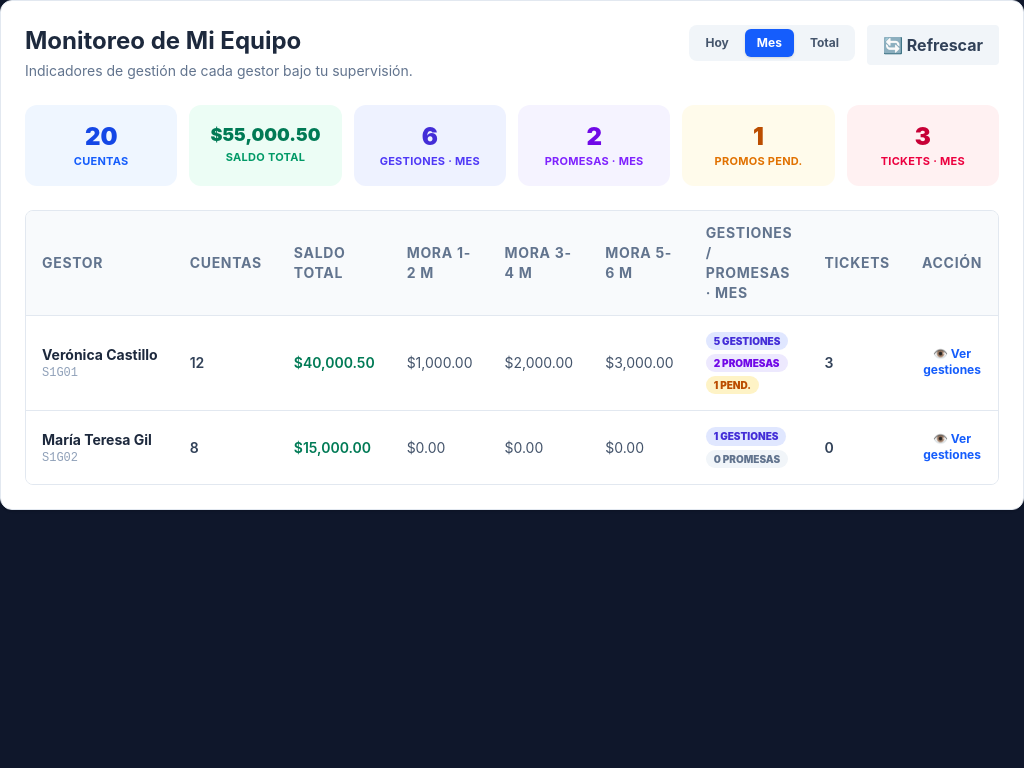
it: SupervisionPanel: detalhe de gestiones › avisa cuando el gestor aun no tiene gestiones
Expected: the text "Verónica Castillo" is shown, [42,345,158,365]
Step 1. Click the button "👁 Ver gestiones" in the row of "Verónica Castillo" → point(952, 362), box [922,346,982,378]
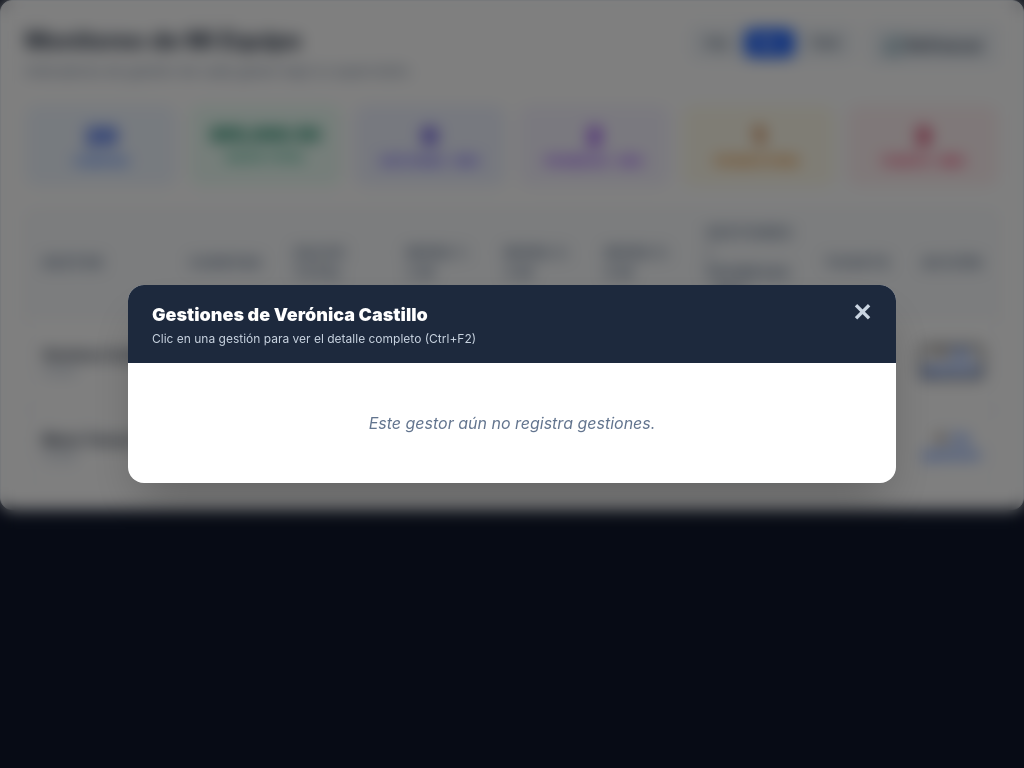
Expected: the text "Este gestor aún no registra gestiones." is shown, [369,413,655,433]
